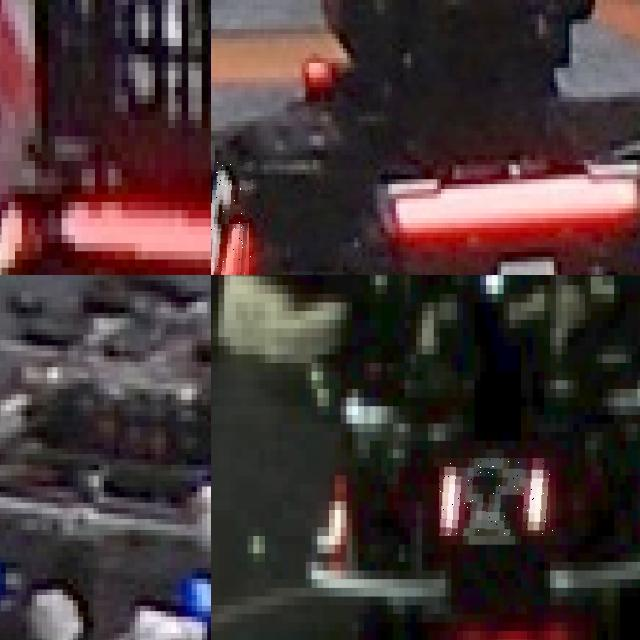R5: (211, 155, 252, 275)
Rs: (439, 458, 556, 536)
